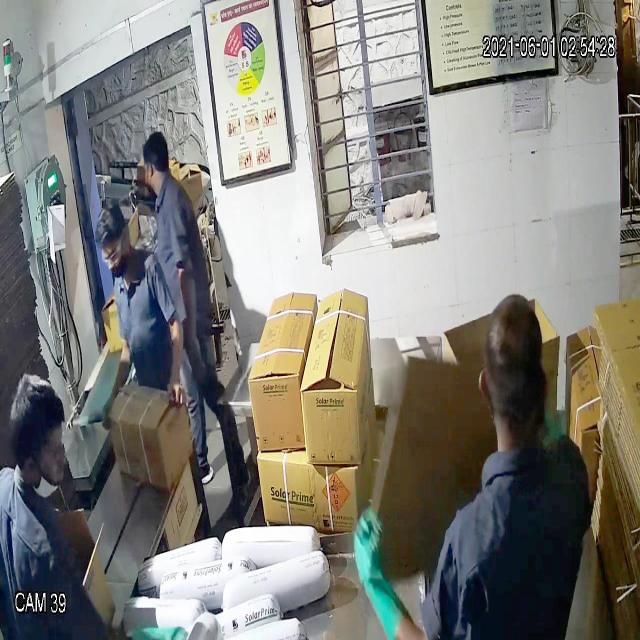glasses: (96, 230, 132, 271)
